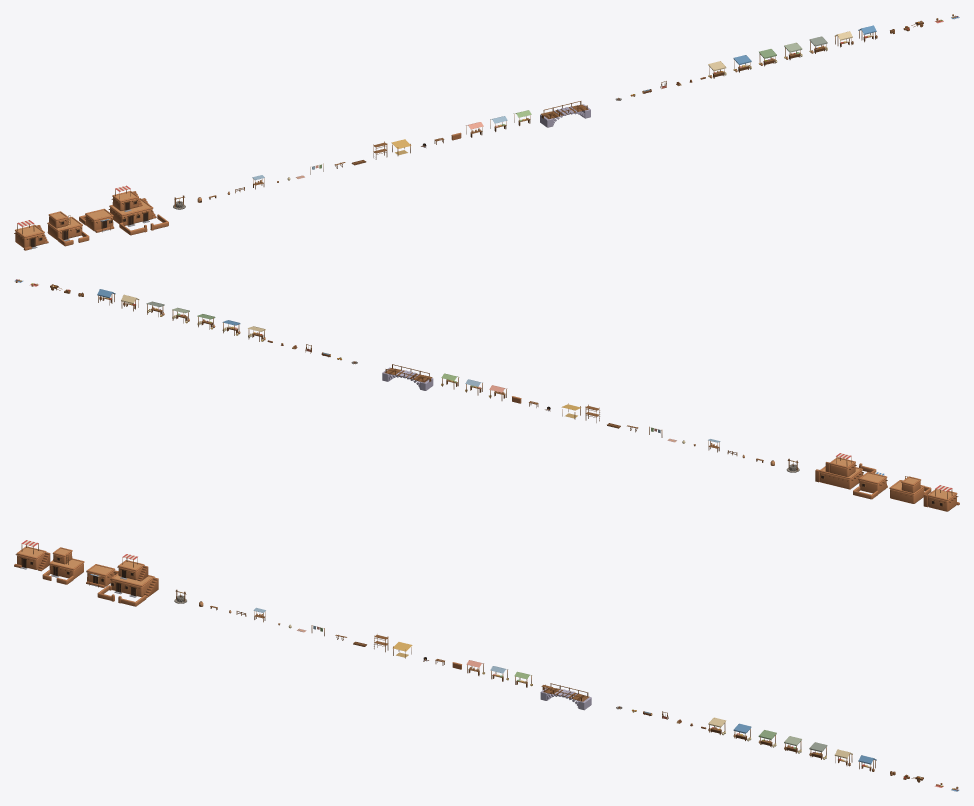
Rendered from aldea.glb.
3 renders of one model, top to bottom at view 1: azimuth 30°, elevation 25°; view 2: azimuth 150°, elevation 25°; view 3: azimuth 330°, elevation 25°, orthographic.
Parts seen in each view (by area): view 1: CasaNoe, CasaB, CasaA, PuentePiedra, CasaC; view 2: CasaNoe, CasaB, CasaA, CasaC, PuentePiedra; view 3: CasaNoe, CasaB, CasaA, PuentePiedra, CasaC.
Boxes of the visible parts, box(x1,y1,x2,y2) form: CasaNoe: box(108, 185, 168, 235); CasaB: box(47, 211, 89, 246); CasaA: box(14, 220, 48, 250); PuentePiedra: box(540, 101, 590, 127); CasaC: box(79, 208, 114, 232); CasaNoe: box(815, 453, 876, 489); CasaB: box(889, 476, 931, 503); CasaA: box(923, 485, 959, 511); CasaC: box(853, 472, 887, 499); PuentePiedra: box(382, 364, 433, 390); CasaNoe: box(97, 554, 158, 606); CasaB: box(42, 547, 84, 584); CasaA: box(14, 540, 50, 571); PuentePiedra: box(540, 683, 591, 710); CasaC: box(86, 564, 118, 587).
Size of the model in its own units: 209 by 7.75 by 10.96.
